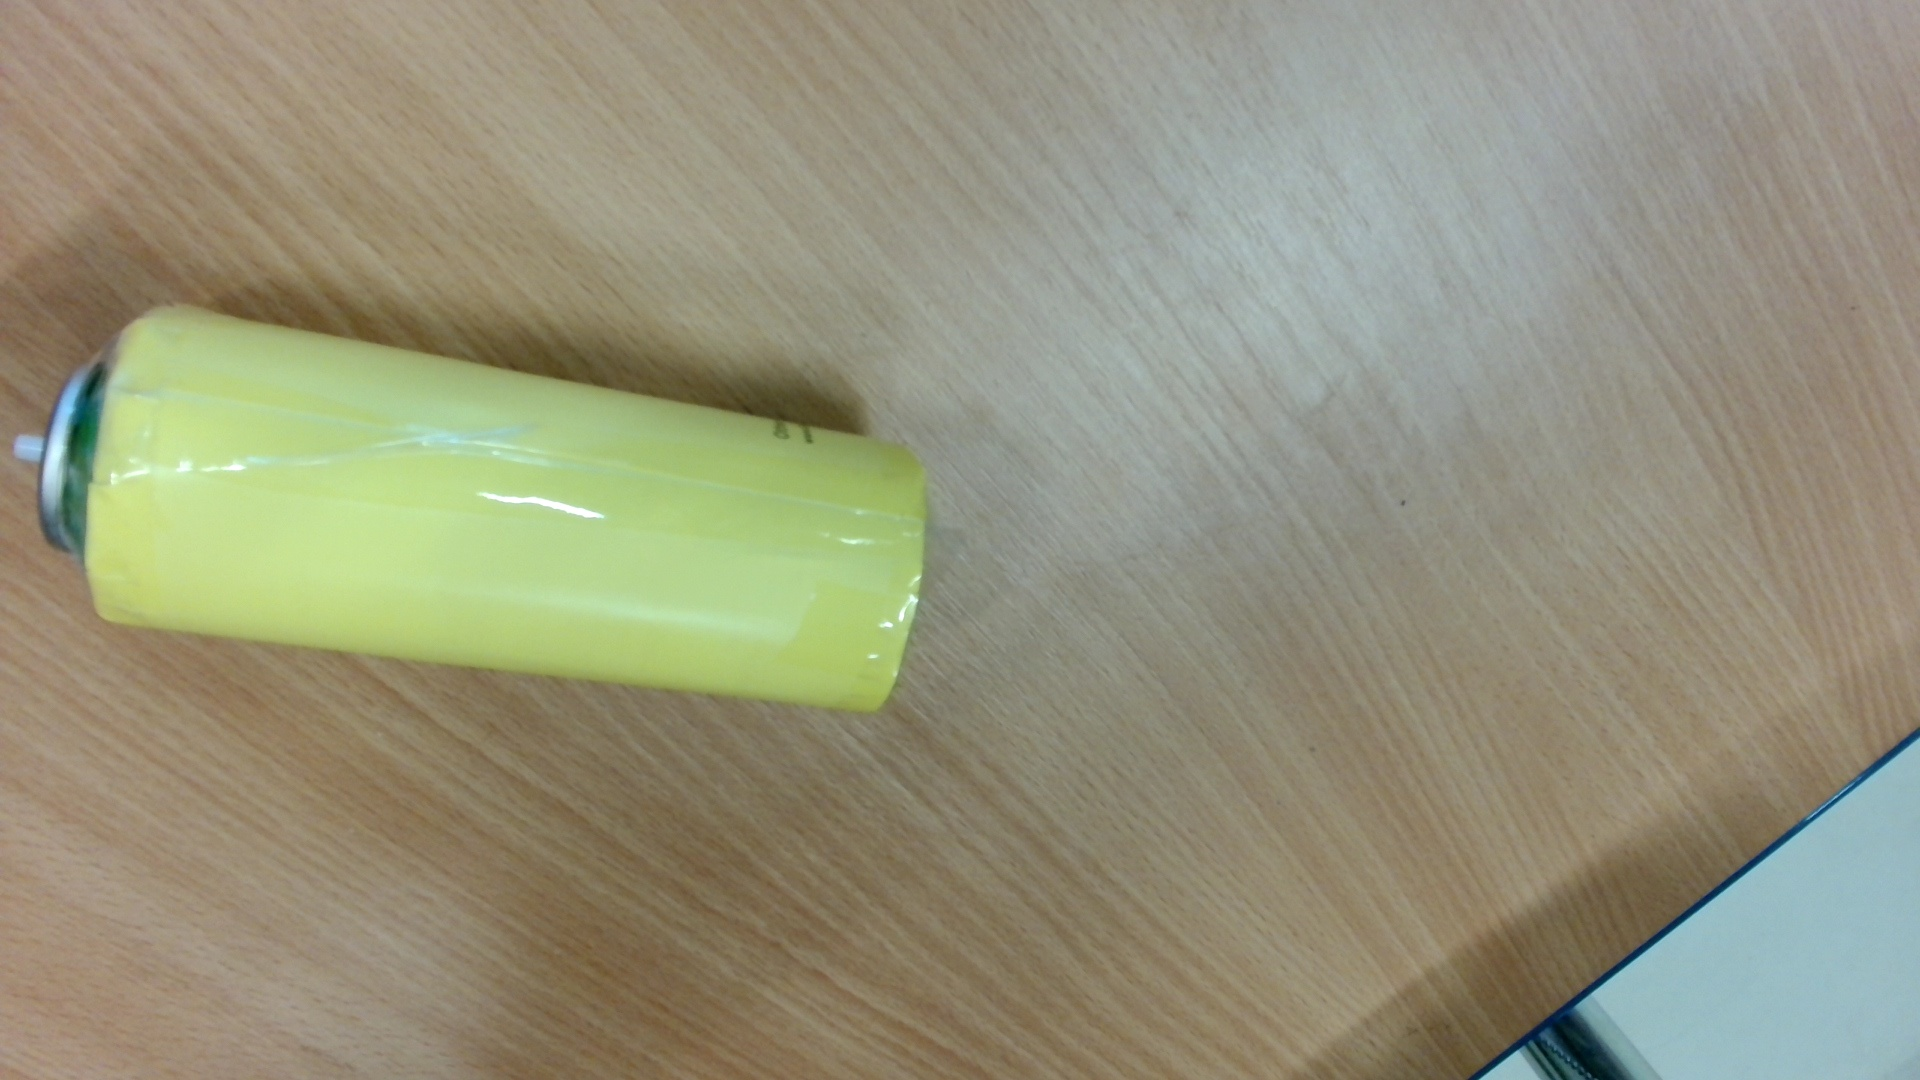Cylinder: (11, 293, 935, 735)
